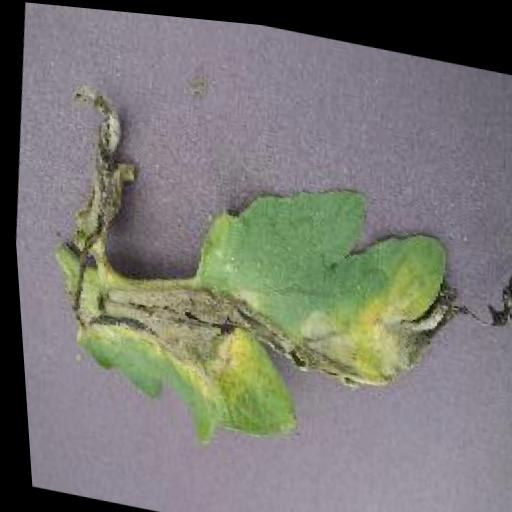Late Blight: (28, 78, 512, 502)
